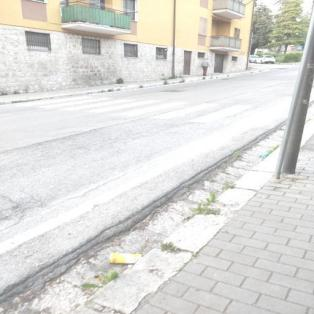Paso de Cebra: (145, 99, 255, 124)
